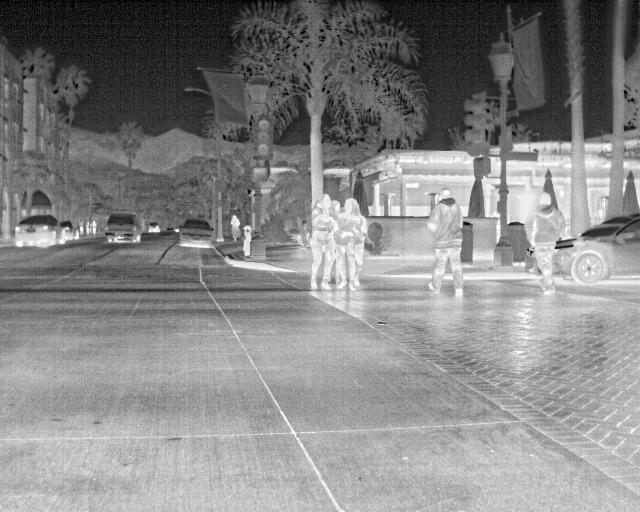bicycle: (554, 208, 639, 281), (12, 214, 61, 250), (105, 211, 143, 246), (176, 217, 215, 248), (60, 220, 79, 239), (145, 219, 161, 235)
empty: (426, 186, 464, 297), (526, 191, 564, 297), (331, 200, 362, 292), (308, 195, 335, 292), (228, 212, 240, 244)
